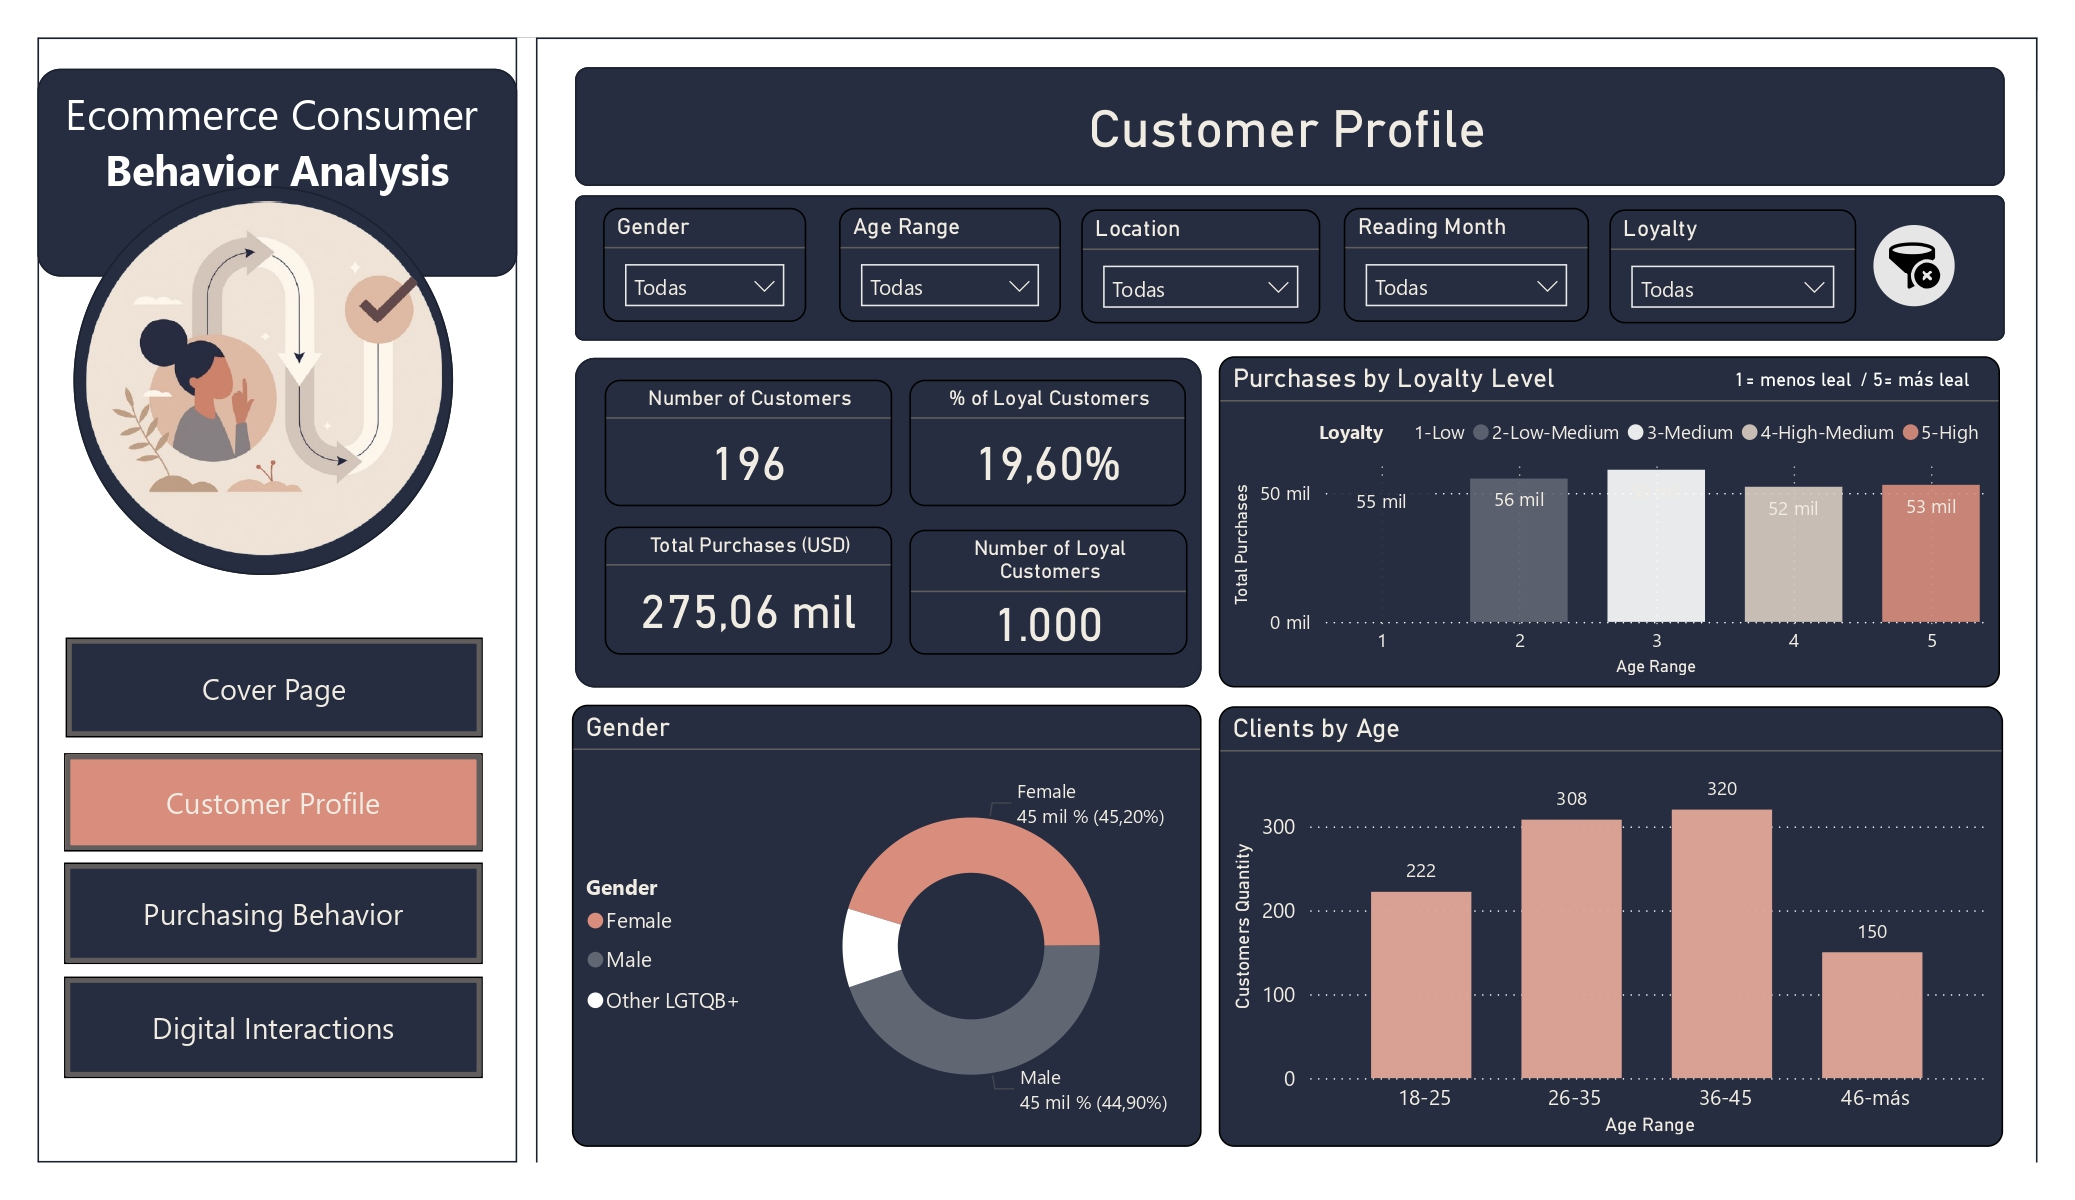

Layout of this report page (visuals, bound fields, positions):
{"tool":"powerbi","page":{"name":"Customer Profile","canvas":[1280,720],"ordinal":1},"visuals":[{"type":"shape","box":[0,0,306.6,719.7],"z":0},{"type":"shape","box":[0,19.7,307,133.2],"z":0,"group":"g1"},{"type":"shape","box":[23.3,95.1,243.1,248.7],"z":1000,"group":"g1"},{"type":"actionButton","title":"por Rango","box":[1030.6,438.6,100,28.6],"z":1000},{"type":"image","box":[3.5,99.8,282.6,239.2],"z":2000,"group":"g1"},{"type":"actionButton","title":"por Rango","box":[1030.2,438.1,100,28.6],"z":2000},{"type":"actionButton","title":"por Edad","box":[1141.7,438.6,100,28.6],"z":3000},{"type":"actionButton","title":"por Edad","box":[1141.3,438.1,100,28.6],"z":4000},{"type":"shape","box":[319,0,960.8,721.5],"z":5000},{"type":"shape","box":[343.9,204.9,401,210.7],"z":6000},{"type":"donutChart","title":"Gender","fields":{"Y":["Medidas.Cantidad Clientes"],"Series":["Gender.Personalizado"]},"box":[342.4,427.3,402.4,282.4],"z":7000},{"type":"columnChart","title":"Clients by Age","fields":{"Category":["Clients.RangoEdad Jerarquía.RangoEdad","Clients.RangoEdad Jerarquía.Age"],"Y":["Medidas.Cantidad Clientes"]},"box":[755.7,427.8,502.5,282.3],"z":8000},{"type":"card","title":"Number of Customers","fields":{"Values":["Medidas.Cantidad Clientes"]},"box":[363,219,178,80],"z":9000},{"type":"shape","box":[343.8,18.8,915,76.2],"z":10000},{"type":"textbox","box":[343.8,33.8,912.5,57.5],"z":11000},{"type":"shape","box":[1174.7,120.3,52.5,52.4],"z":11000,"group":"g2"},{"type":"image","box":[1178.6,124.3,44.6,44.4],"z":12000,"group":"g2"},{"type":"card","title":"Total Purchases (USD)","fields":{"Values":["Medidas.Total Compras"]},"box":[363,313,178,82],"z":12000},{"type":"columnChart","title":"Purchases by Loyalty Level","fields":{"Category":["Purchase.Brand_Loyalty"],"Y":["Medidas.Total Compras"],"Series":["Purchase.Lealtad_Desc"]},"box":[755.7,203.8,500,212.7],"z":13000},{"type":"actionButton","box":[17.4,457.6,267.9,63.4],"z":14000},{"type":"actionButton","box":[17.4,527.8,267.9,64.9],"z":15000},{"type":"actionButton","box":[17.4,600.9,267.9,64.9],"z":16000},{"type":"actionButton","box":[17.7,384,267.5,63.8],"z":17000},{"type":"group","id":"g1","title":"Grupo 1","box":[0,19.7,306.6,324.6],"z":18000},{"type":"textbox","box":[0,24.6,306.6,159],"z":19000},{"type":"card","title":"Number of Loyal Customers","fields":{"Values":["Medidas.Clientes Leales"]},"box":[553,219,184,81],"z":20000},{"type":"card","title":"% of Loyal Customers","fields":{"Values":["Medidas.PorCienClientesLeales"]},"box":[553,314,184,81],"z":21000},{"type":"textbox","box":[1081,203.8,174.7,59.5],"z":22000},{"type":"shape","box":[344.3,100.7,914.8,93.4],"z":23000},{"type":"slicer","title":"Gender","fields":{"Values":["Gender.Gender"]},"box":[362,108.9,130.4,73.4],"z":24000},{"type":"slicer","title":"Age Range","fields":{"Values":["Clients.RangoEdad Jerarquía.RangoEdad","Clients.RangoEdad Jerarquía.Age"]},"box":[512.6,109.2,142.5,72.4],"z":25000},{"type":"slicer","title":"Reading Month","fields":{"Values":["CalendarioDinamico.Mes (Abreviado)","CalendarioDinamico.Año"]},"box":[835.6,109.2,157.5,72.4],"z":26000},{"type":"slicer","title":"Location","fields":{"Values":["Region.Region","Country(Country).Country"]},"box":[667.8,110.3,152.9,72.4],"z":27000},{"type":"group","id":"g2","title":"Grupo 2","box":[1174.7,120.3,53.2,51.9],"z":28000},{"type":"slicer","title":"Loyalty","fields":{"Values":["Purchase.Brand_Loyalty"]},"box":[1005.7,110.3,158.6,72.4],"z":29000}]}

Visuals, with their boxes on the page's 1280x720 design canvas (x1, y1, x2, y2). These are canvas units, not pixel positions in the 2075x1200 screenshot, which may show the page scaled, cropped or inside an application window:
shape: x1=0 y1=0 x2=307 y2=720
shape: x1=0 y1=20 x2=307 y2=153
shape: x1=23 y1=95 x2=266 y2=344
"por Rango" actionButton: x1=1031 y1=439 x2=1131 y2=467
image: x1=4 y1=100 x2=286 y2=339
"por Rango" actionButton: x1=1030 y1=438 x2=1130 y2=467
"por Edad" actionButton: x1=1142 y1=439 x2=1242 y2=467
"por Edad" actionButton: x1=1141 y1=438 x2=1241 y2=467
shape: x1=319 y1=0 x2=1280 y2=722
shape: x1=344 y1=205 x2=745 y2=416
"Gender" donutChart: x1=342 y1=427 x2=745 y2=710
"Clients by Age" columnChart: x1=756 y1=428 x2=1258 y2=710
"Number of Customers" card: x1=363 y1=219 x2=541 y2=299
shape: x1=344 y1=19 x2=1259 y2=95
textbox: x1=344 y1=34 x2=1256 y2=91
shape: x1=1175 y1=120 x2=1227 y2=173
image: x1=1179 y1=124 x2=1223 y2=169
"Total Purchases (USD)" card: x1=363 y1=313 x2=541 y2=395
"Purchases by Loyalty Level" columnChart: x1=756 y1=204 x2=1256 y2=416
actionButton: x1=17 y1=458 x2=285 y2=521
actionButton: x1=17 y1=528 x2=285 y2=593
actionButton: x1=17 y1=601 x2=285 y2=666
actionButton: x1=18 y1=384 x2=285 y2=448
"Grupo 1" group: x1=0 y1=20 x2=307 y2=344
textbox: x1=0 y1=25 x2=307 y2=184
"Number of Loyal Customers" card: x1=553 y1=219 x2=737 y2=300
"% of Loyal Customers" card: x1=553 y1=314 x2=737 y2=395
textbox: x1=1081 y1=204 x2=1256 y2=263
shape: x1=344 y1=101 x2=1259 y2=194
"Gender" slicer: x1=362 y1=109 x2=492 y2=182
"Age Range" slicer: x1=513 y1=109 x2=655 y2=182
"Reading Month" slicer: x1=836 y1=109 x2=993 y2=182
"Location" slicer: x1=668 y1=110 x2=821 y2=183
"Grupo 2" group: x1=1175 y1=120 x2=1228 y2=172
"Loyalty" slicer: x1=1006 y1=110 x2=1164 y2=183
